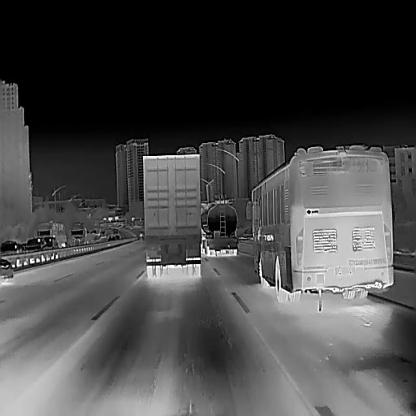bus: (245, 145, 394, 312)
car: (0, 255, 14, 284), (0, 238, 18, 255), (24, 237, 44, 252), (42, 236, 57, 248), (106, 234, 114, 240)
truck: (142, 153, 201, 278), (201, 196, 238, 258), (37, 219, 64, 247), (69, 221, 86, 245)
